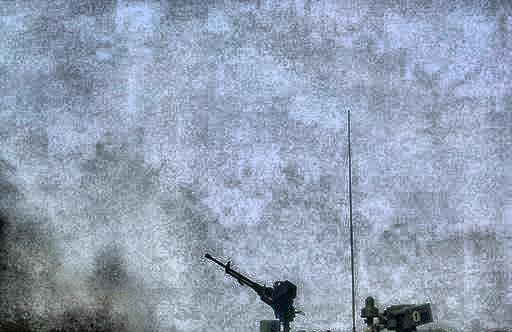tanks: (363, 301, 442, 332), (254, 285, 297, 332), (298, 331, 305, 332)
